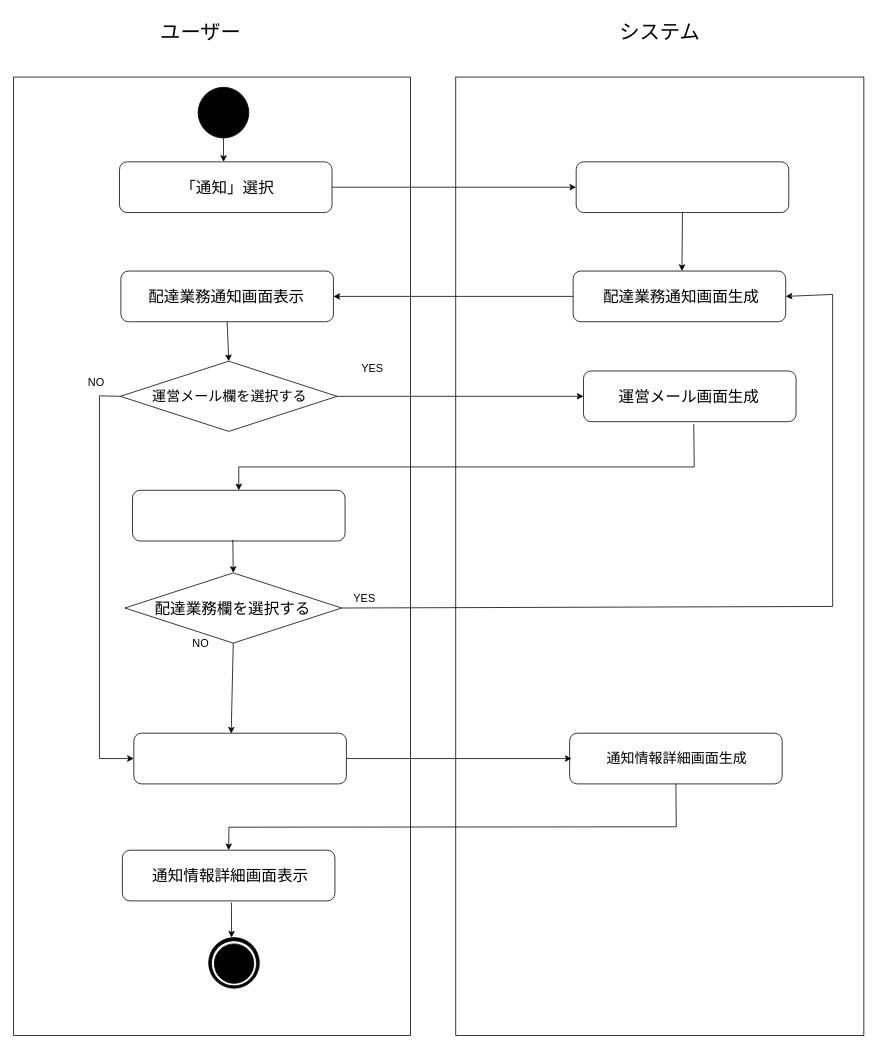
This 877x1049 diagram has some shape labels left out. The centre of each missing label's shape, as x and y in pixels:
"通知を選択" belongs at pixel 239 758.
"通知情報取得" belongs at pixel 682 187.
"運営メール画面表示" belongs at pixel 238 515.
